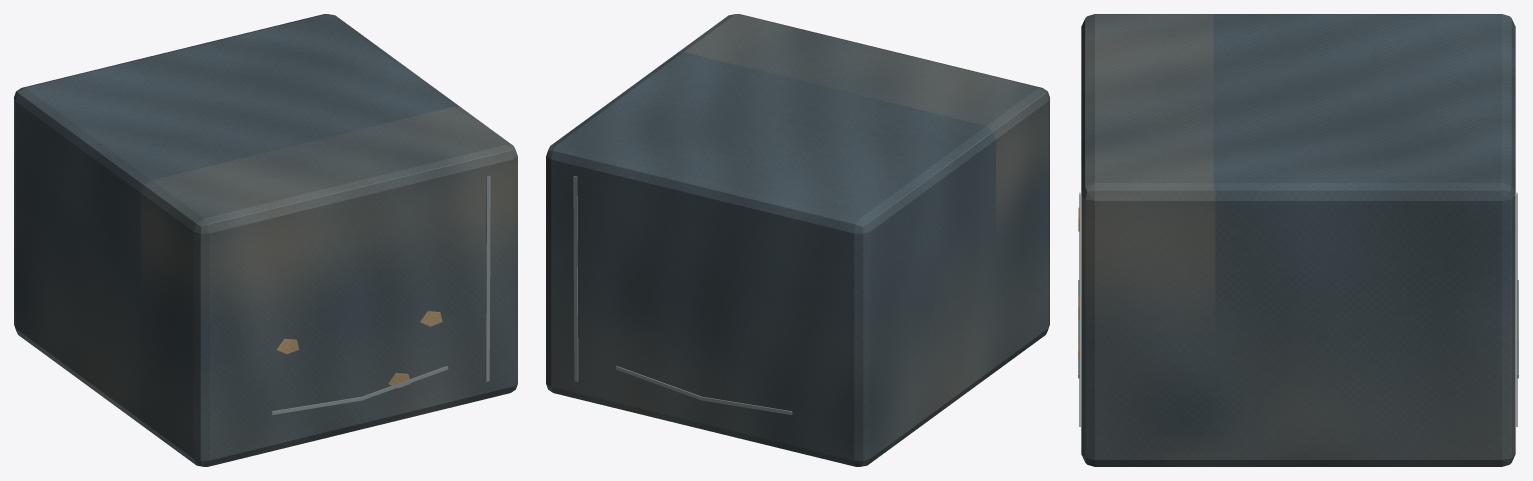
The model's file is 05_Jambe_LeftLowerLeg.fbx.
The picture shows the model from 3 angles, left to right: view 1: azimuth 30°, elevation 25°; view 2: azimuth 150°, elevation 25°; view 3: azimuth 270°, elevation 25°; orthographic projection. The views are drawn at different scales.
Visible parts, largest first — view 1: 05_Jambe_LeftLowerLeg; view 2: 05_Jambe_LeftLowerLeg; view 3: 05_Jambe_LeftLowerLeg.
Part boxes in pixels (left/top/right/bottom): 05_Jambe_LeftLowerLeg: left=14, top=14, right=517, bottom=466; 05_Jambe_LeftLowerLeg: left=546, top=14, right=1049, bottom=466; 05_Jambe_LeftLowerLeg: left=1078, top=14, right=1518, bottom=466.
Size of the model in its own units: 1.01 by 0.745 by 1.05.
Materials: 1 (1 with a texture image).
